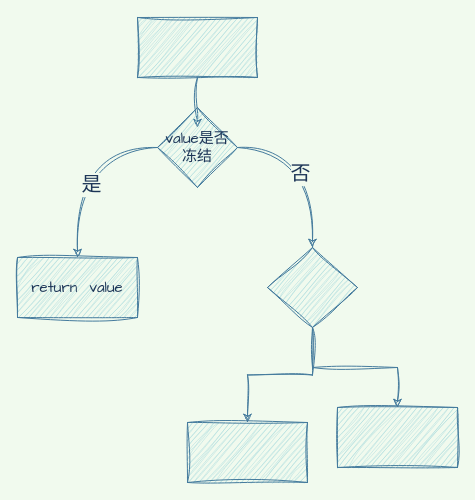
Some shapes in this 475 by 500 pixel diagram are drawn without their labels. Each missing label, with the centre of its shape:
"finalize" belongs at [197,47].
"是否为非代理对象draft" belongs at [312,287].
